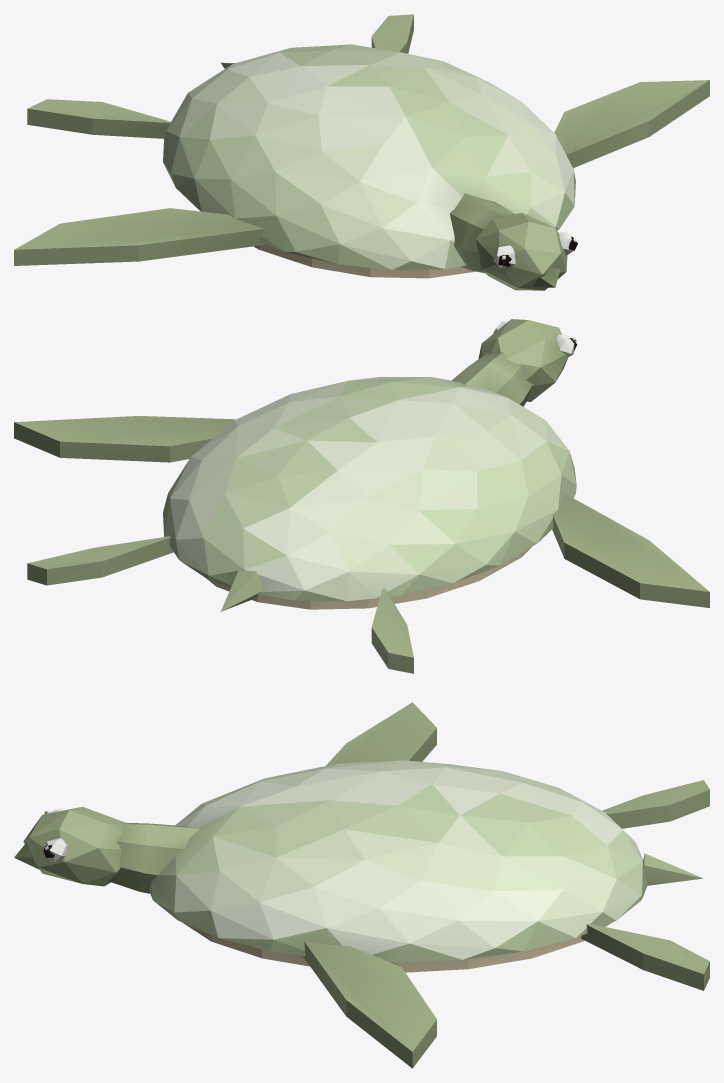
The model's file is turtle.glb.
The picture shows the model from 3 angles, top to bottom: view 1: azimuth 30°, elevation 25°; view 2: azimuth 150°, elevation 25°; view 3: azimuth 270°, elevation 25°; orthographic projection. The views are drawn at different scales.
Visible parts, largest first — view 1: base, fl0_m, fl1_m, fl2_m, fl3_m; view 2: base, fl0_m, fl1_m, fl3_m, fl2_m; view 3: base, fl1_m, fl3_m, fl0_m, fl2_m.
Part boxes in pixels (x1,y1,x2,y2): base: [163, 44, 577, 290]; fl0_m: [14, 208, 265, 265]; fl1_m: [554, 80, 709, 167]; fl2_m: [27, 99, 170, 138]; fl3_m: [371, 14, 413, 53]; base: [163, 319, 577, 611]; fl0_m: [552, 494, 709, 607]; fl1_m: [14, 416, 235, 462]; fl3_m: [27, 536, 173, 585]; fl2_m: [371, 588, 413, 673]; base: [14, 760, 703, 972]; fl1_m: [303, 941, 436, 1068]; fl3_m: [581, 923, 709, 990]; fl0_m: [326, 702, 436, 765]; fl2_m: [602, 780, 709, 828].
Bounding box in the file's own units: 0.54 × 0.0753 × 0.454.
